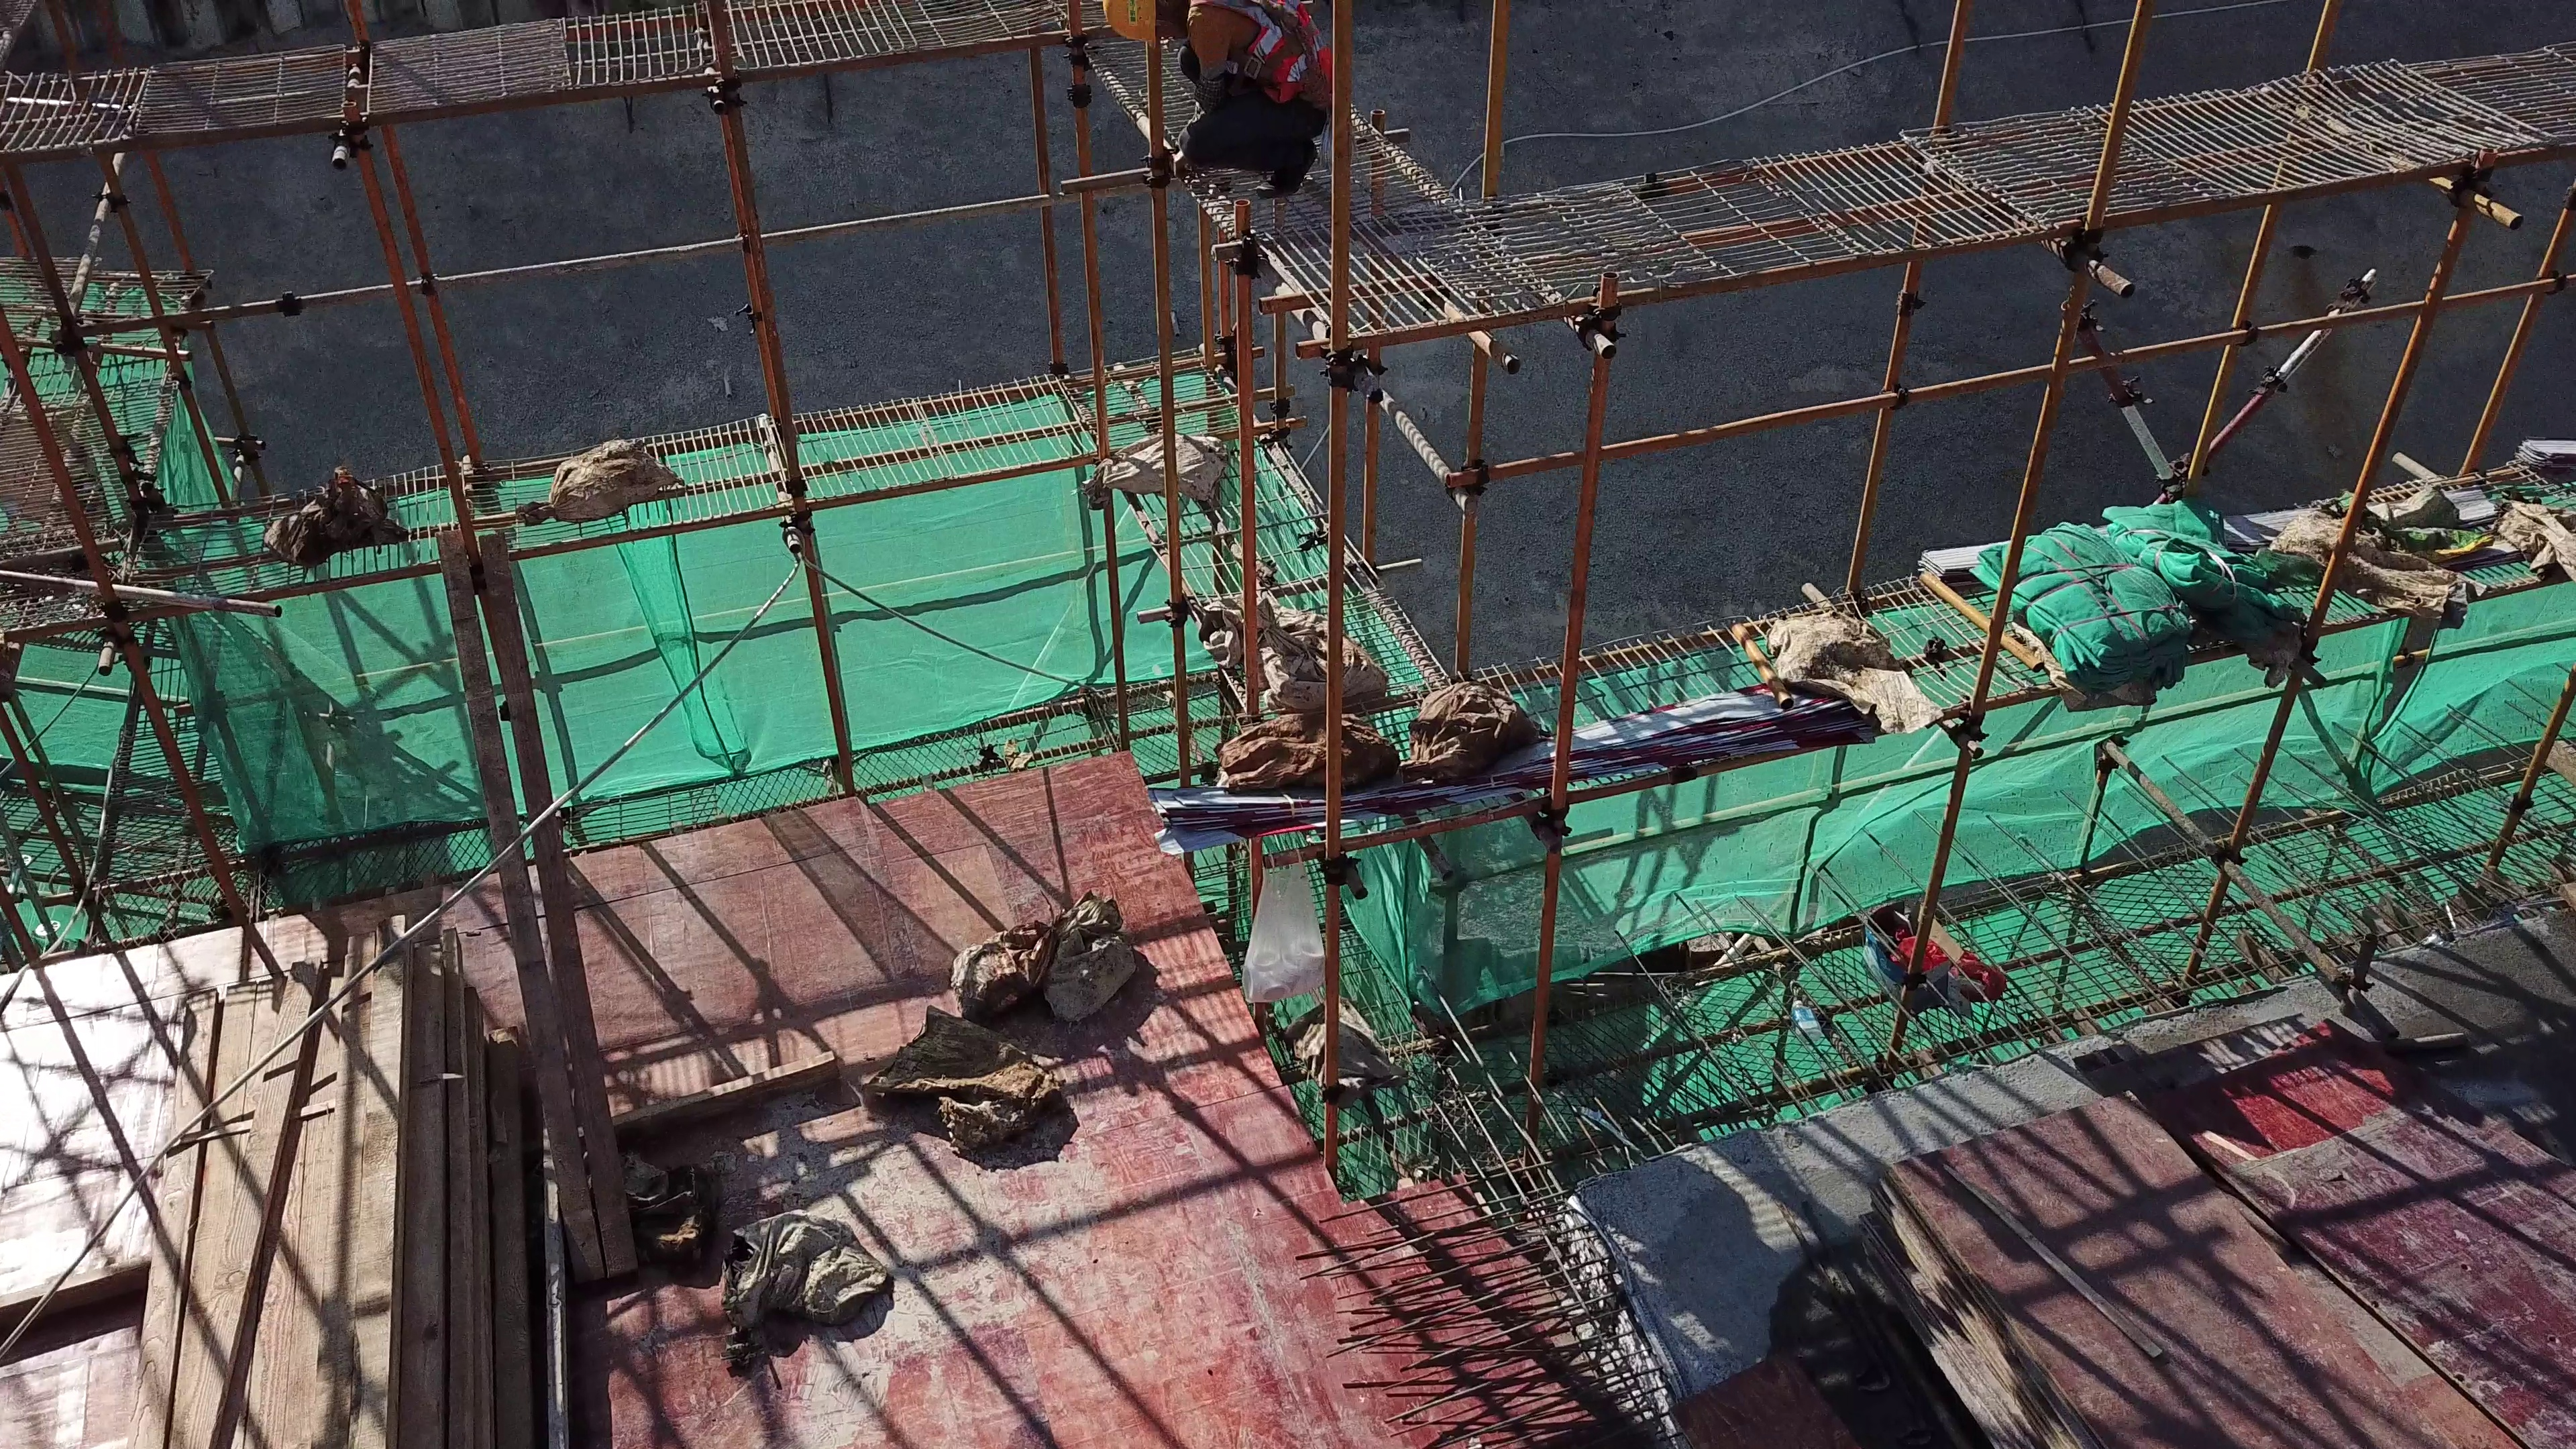board: (1858, 1093, 2457, 1449)
helmet: (1102, 1, 1159, 48)
person: (1102, 1, 1344, 203)
wood: (145, 916, 551, 1449)
